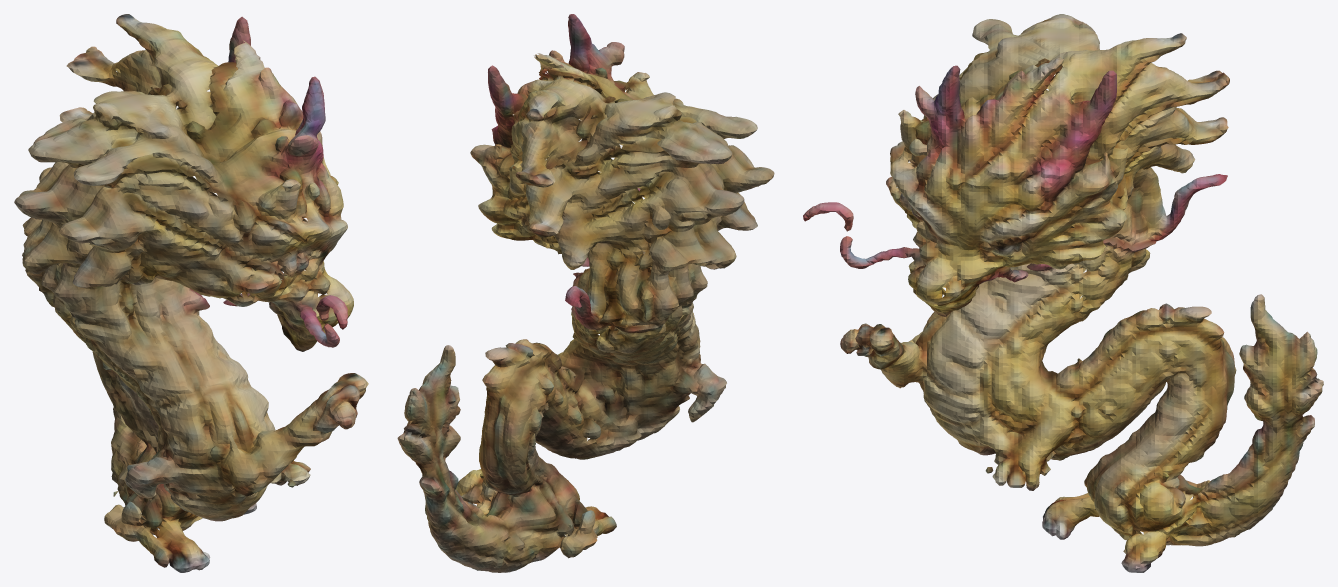
3 renders of one model, left to right at view 1: azimuth 30°, elevation 25°; view 2: azimuth 150°, elevation 25°; view 3: azimuth 270°, elevation 25°, orthographic. The views are drawn at different scales.
Parts seen in each view (by area): view 1: world; view 2: world; view 3: world.
Part boxes in pixels (left/top/right/bottom): world: left=14, top=14, right=368, bottom=572; world: left=397, top=14, right=774, bottom=572; world: left=803, top=14, right=1323, bottom=572.
Bounding box in the file's own units: 0.6913 × 1.2 × 1.13.
